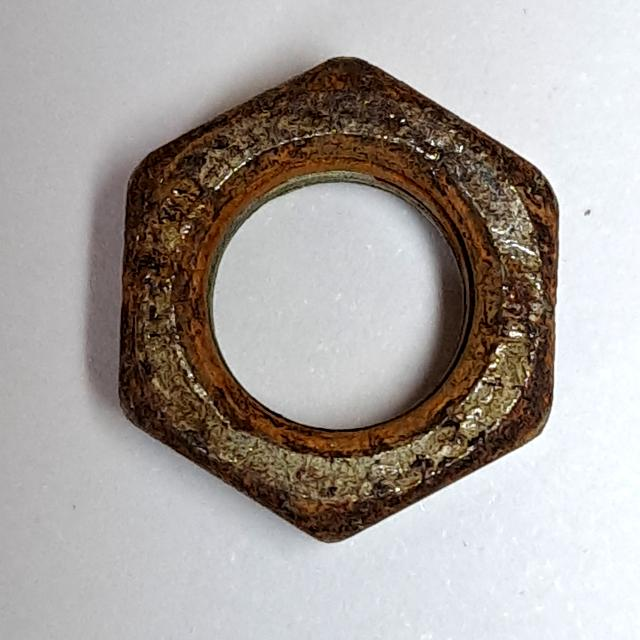Rust: (100, 42, 573, 561)
